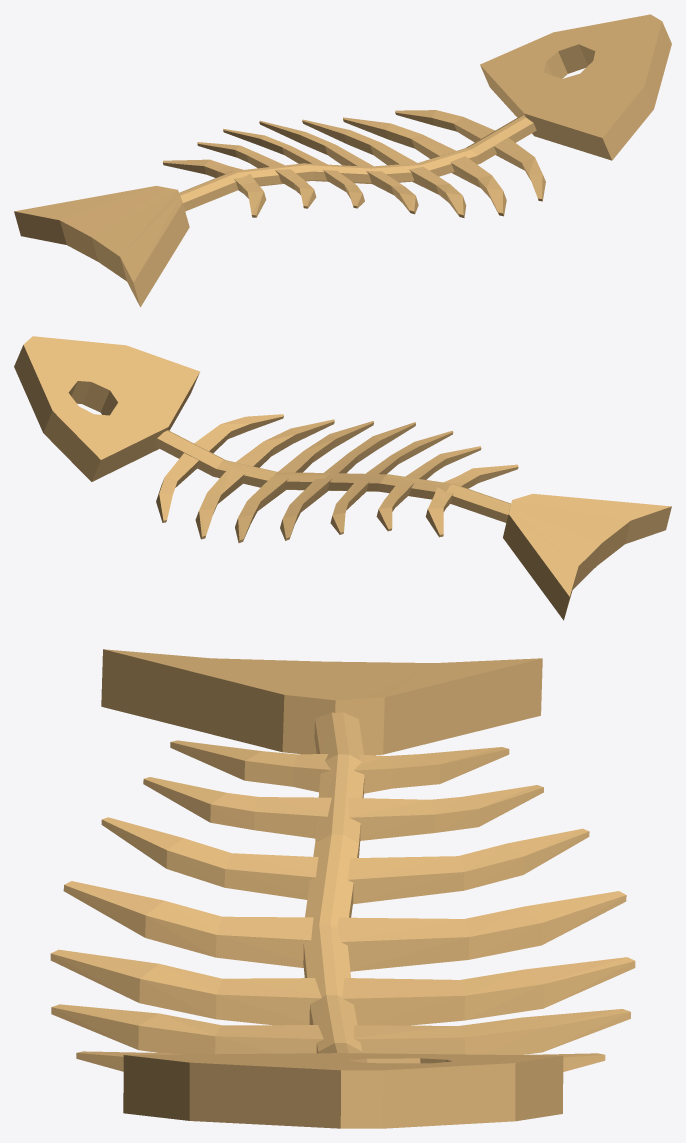
File: FishBone.obj
3 views of the same model, one above another, from view 1: azimuth 30°, elevation 25°; view 2: azimuth 150°, elevation 25°; view 3: azimuth 270°, elevation 25° (orthographic). The views are drawn at different scales.
Parts seen in each view (by area): view 1: FishBone; view 2: FishBone; view 3: FishBone.
Part boxes in pixels (x1,y1,x2,y2): FishBone: (14, 14, 671, 307); FishBone: (14, 336, 671, 620); FishBone: (50, 649, 635, 1128).
Size of the model in its own units: 1.95 by 0.3324 by 0.8296.
